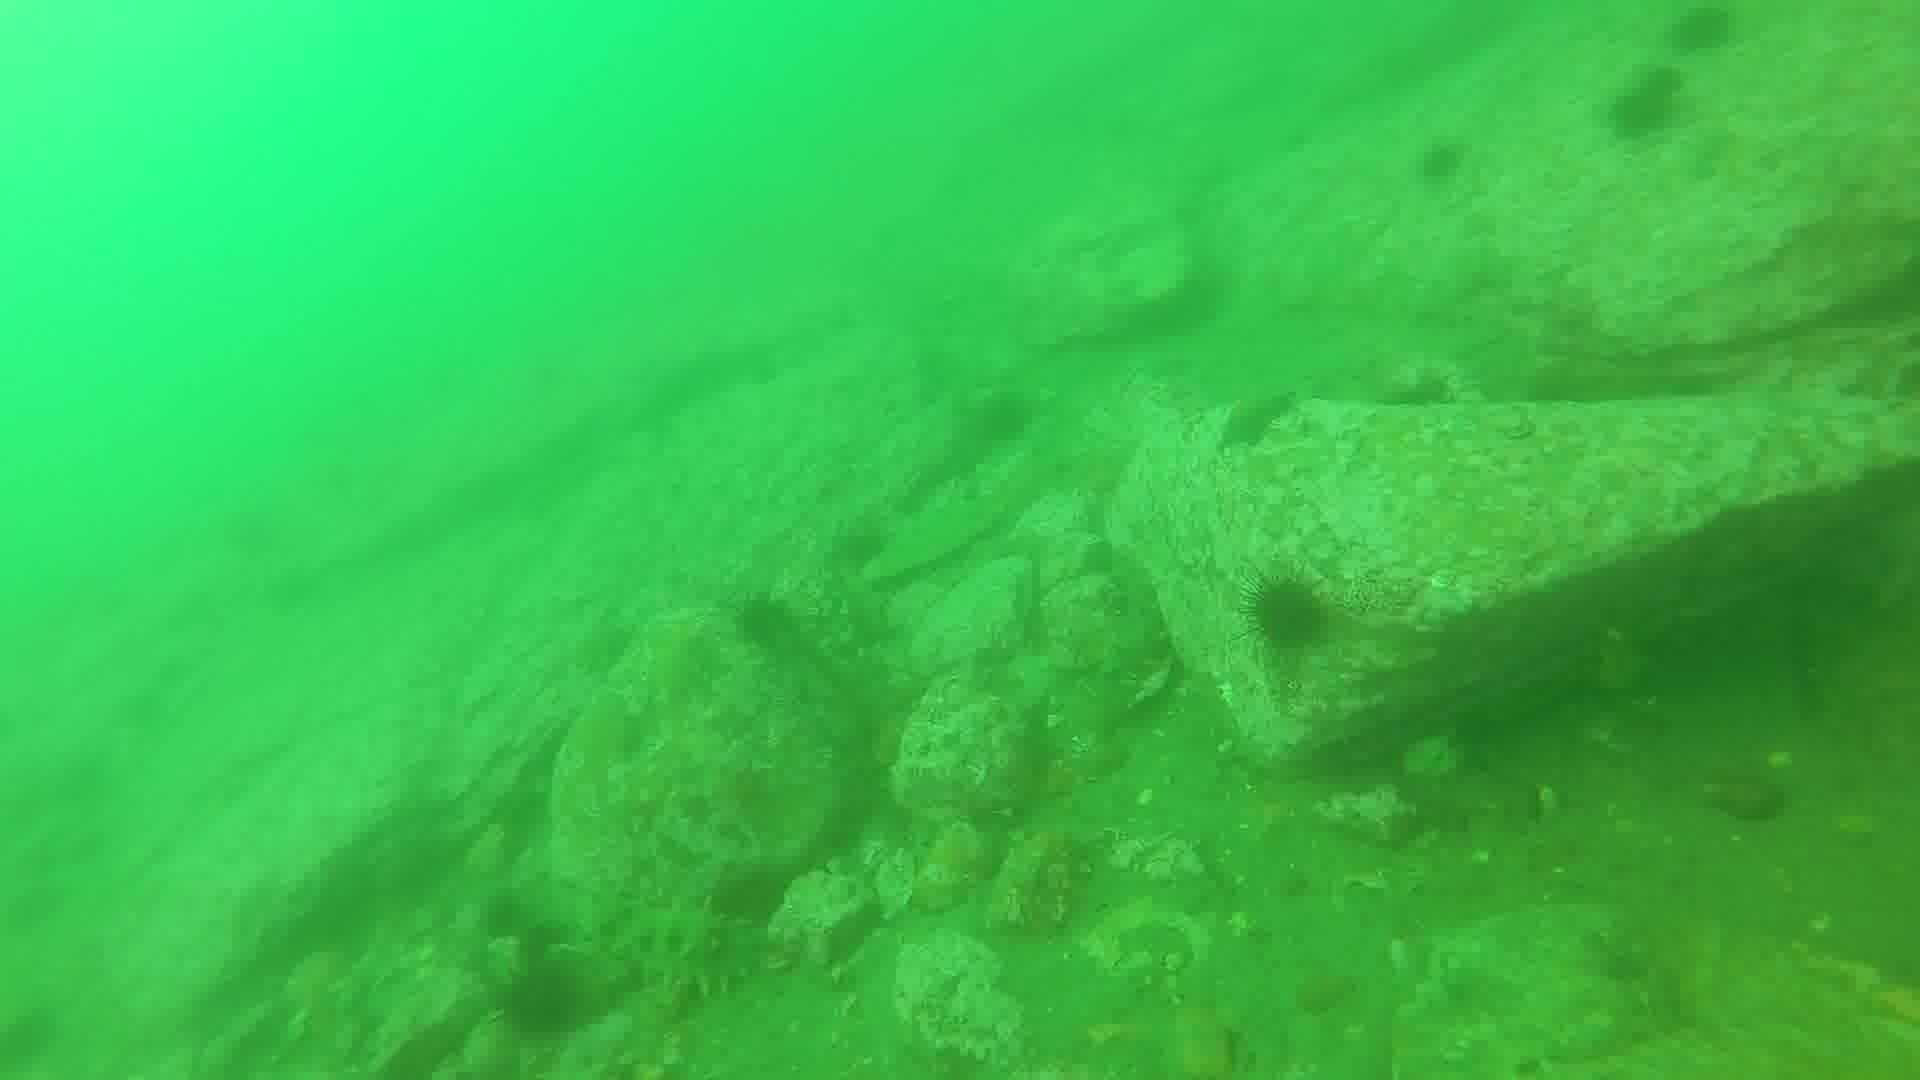echinus: (1241, 568, 1336, 658), (493, 959, 589, 1044), (1601, 65, 1689, 146), (729, 588, 804, 658), (1663, 3, 1743, 61), (825, 512, 894, 576), (473, 887, 538, 947), (1410, 132, 1473, 190)
holothurian: (611, 893, 779, 1004)
starfish: (1213, 385, 1299, 454)
